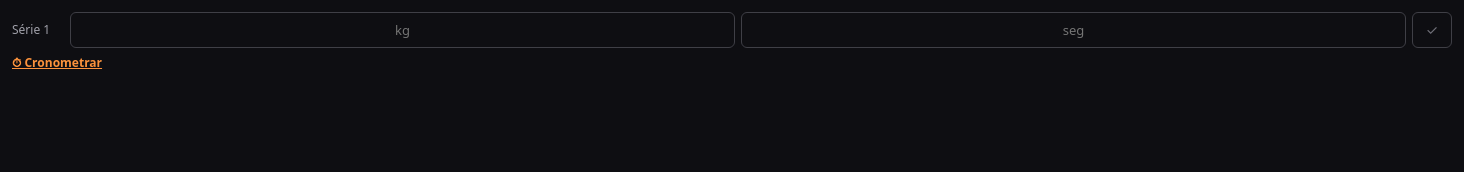
Test: TimedSetRow › o cronômetro preenche a duração ao parar e apita ao chegar na meta
This screenshot has width=1464, height=172.
Click the button "⏱ Cronometrar". click: (57, 62)
box: left=12, top=54, right=102, bottom=71
Wait 41000 ms
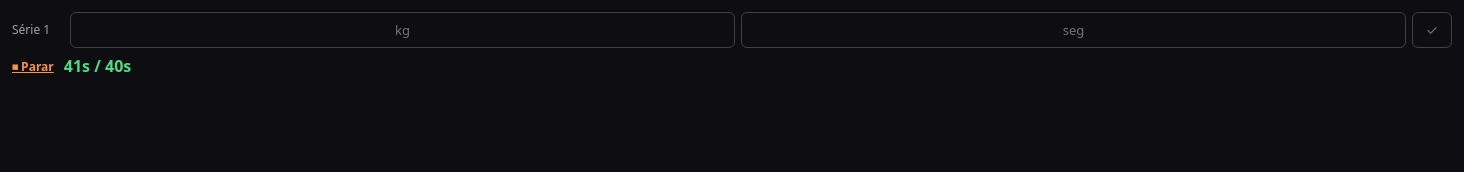
Click the button "⏹ Parar". click: (33, 66)
box: left=12, top=58, right=54, bottom=74
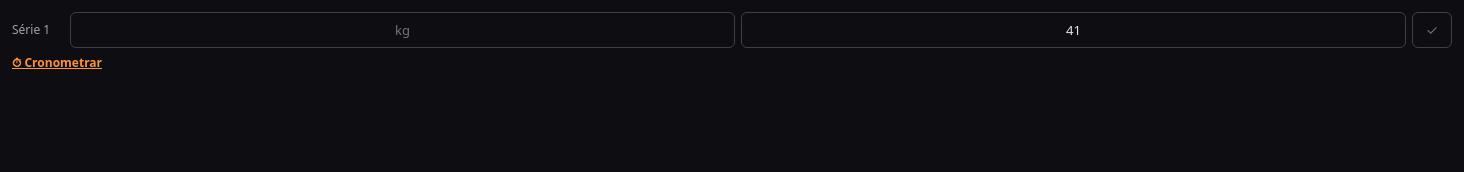
Result: the field with placeholder "seg" holds "41" at left=741, top=12, right=1406, bottom=48
